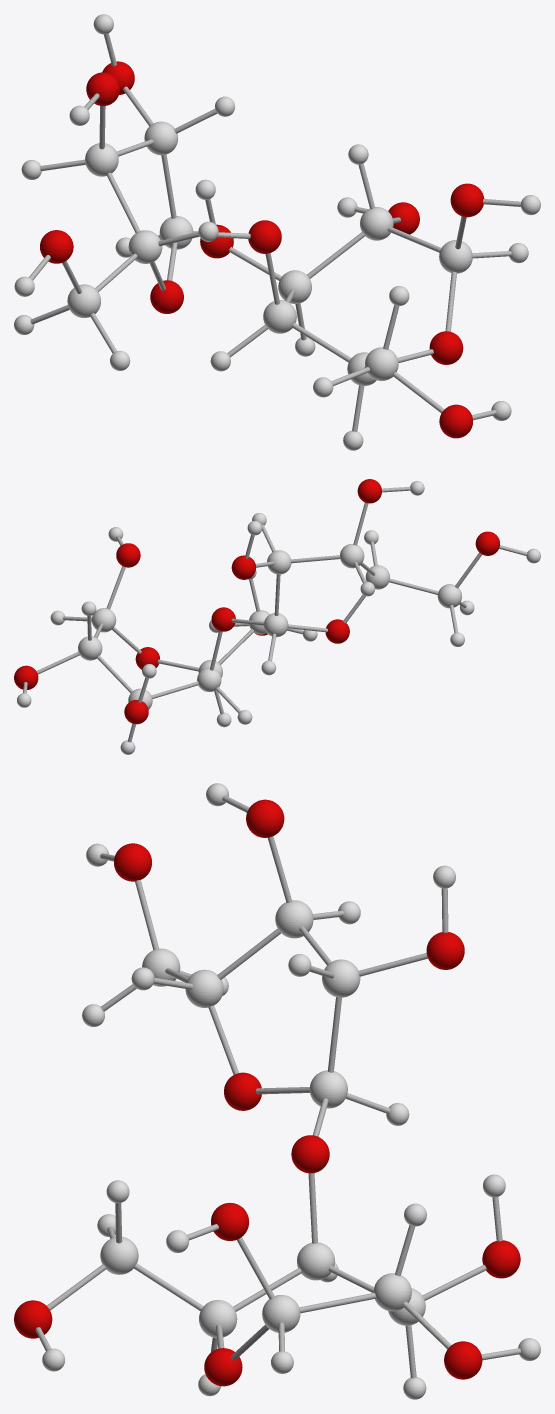
3 views of the same model, one above another, from view 1: azimuth 30°, elevation 25°; view 2: azimuth 150°, elevation 25°; view 3: azimuth 270°, elevation 25° (orthographic). The views are drawn at different scales.
Visible parts, largest first — view 1: world; view 2: world; view 3: world.
Part boxes in pixels (x1,y1,x2,y2): world: (14, 14, 540, 450); world: (14, 479, 540, 754); world: (14, 783, 540, 1399).
Size of the model in its own units: 10.14 by 6.75 by 6.88.
